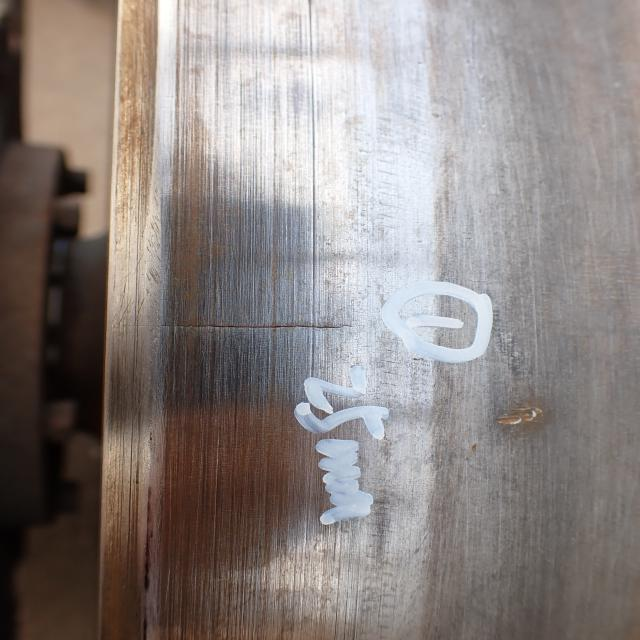Brake_Thermal_Cracks: (131, 307, 355, 344)
Peeling: (487, 403, 548, 433)
